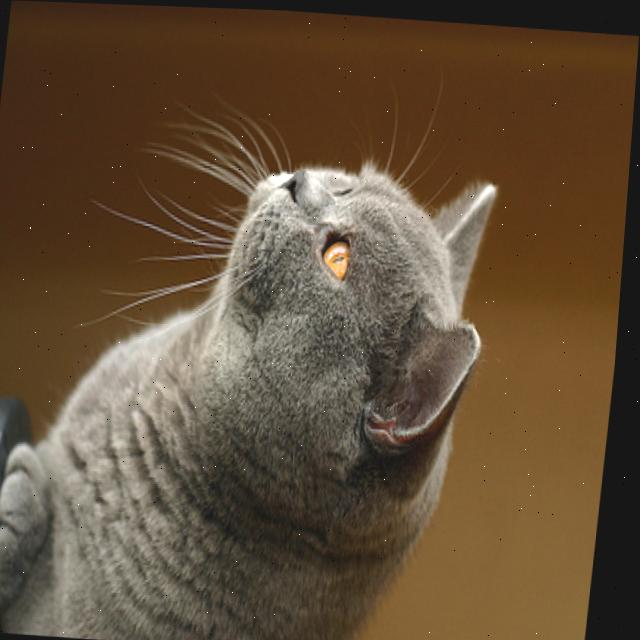British Shorthair: (0, 132, 509, 640)
